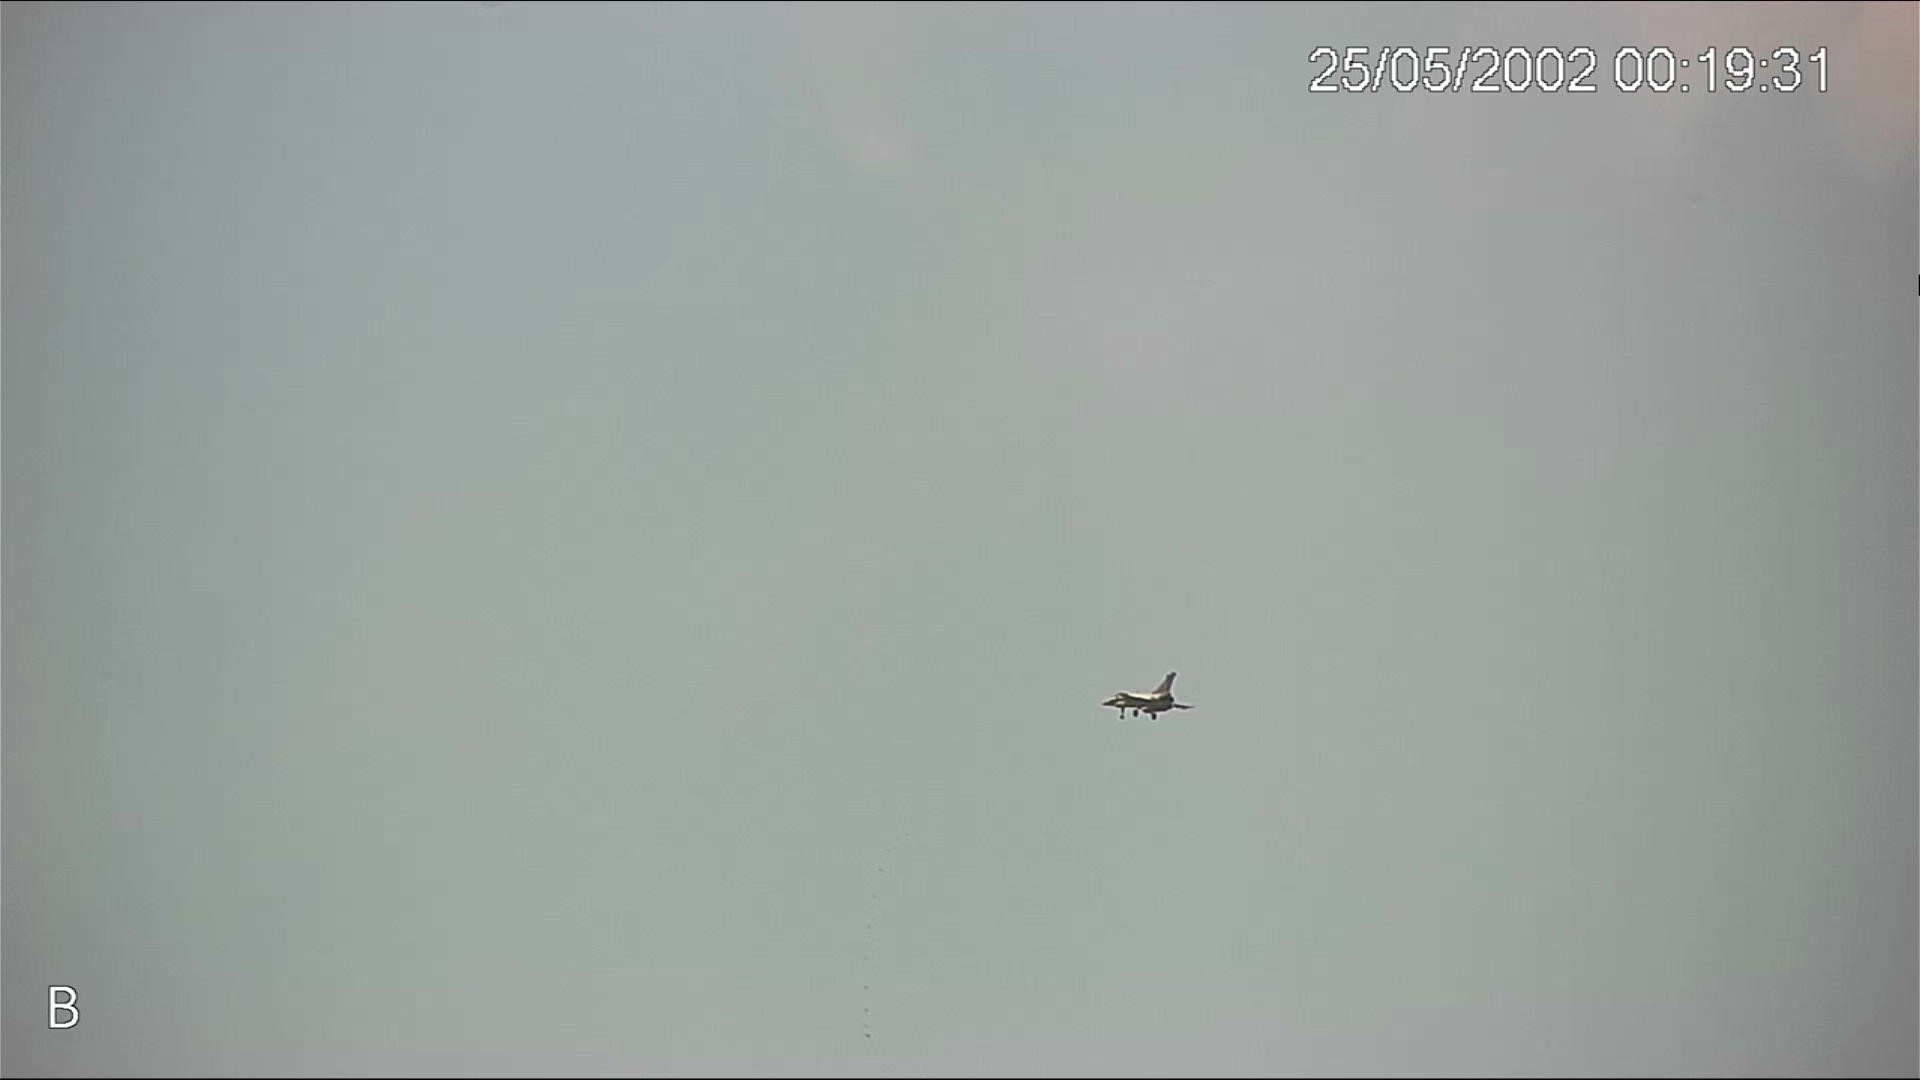SU_30: (1089, 670, 1197, 720)
